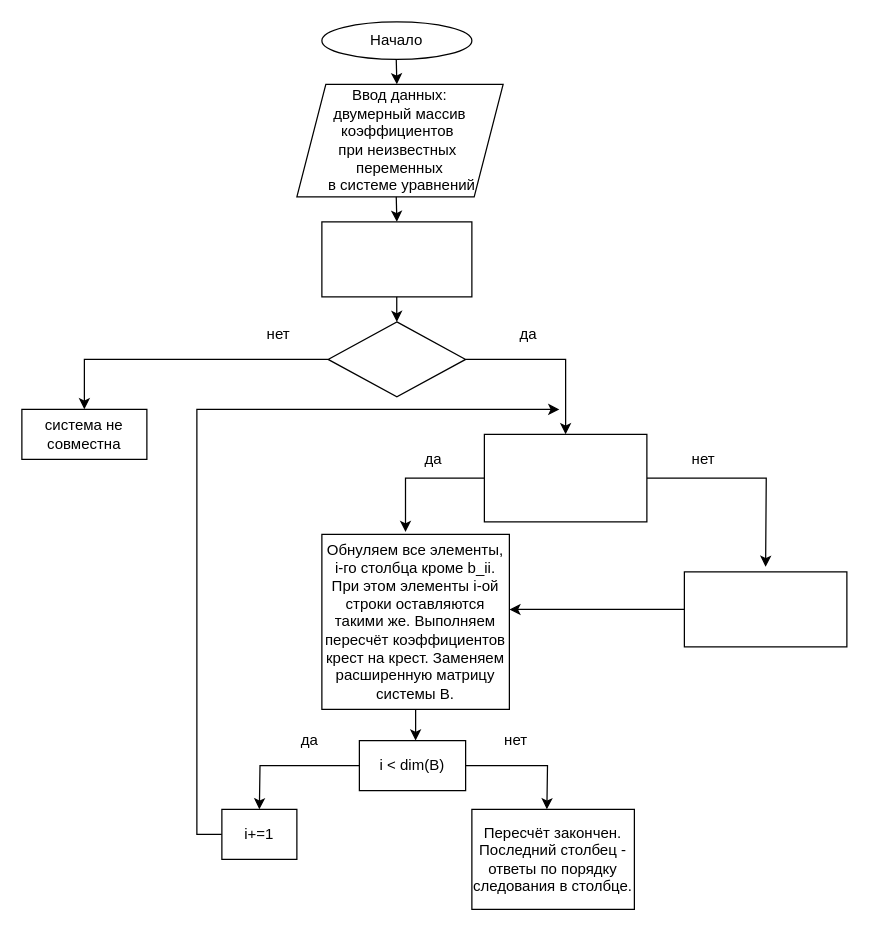
This 869x931 diagram has some shape labels left out. The shapes that lost their labels are listed below. From the top down, each one's box as (x1, y1, x2, y2) in pixels, then its label:
(321, 221, 472, 297): Составляем основную(A) и расширенную(B) матрицы системы
(327, 321, 466, 397): rkA = rkB?
(483, 433, 647, 522): Берём расширенную матрицу системы (B). i = 1. b_ii равен 1?
(683, 571, 847, 647): Делим всю i-ую строку на b_ii. Меняем расширенную матрицу системы B.
